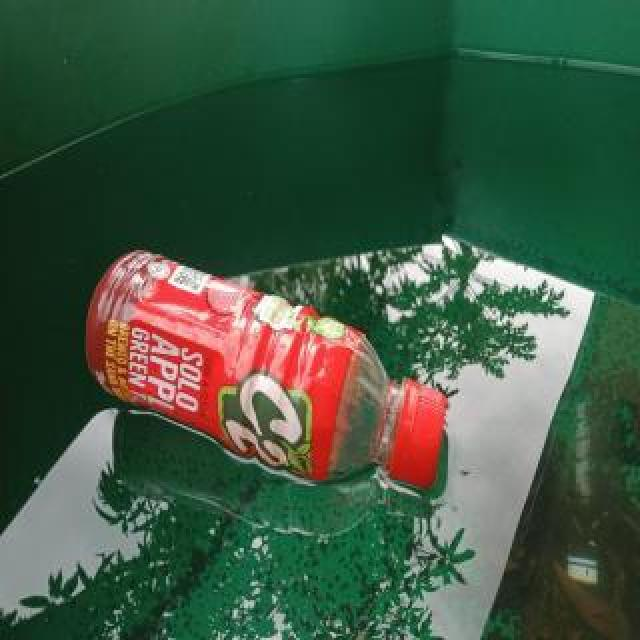bottle: (83, 243, 449, 505)
